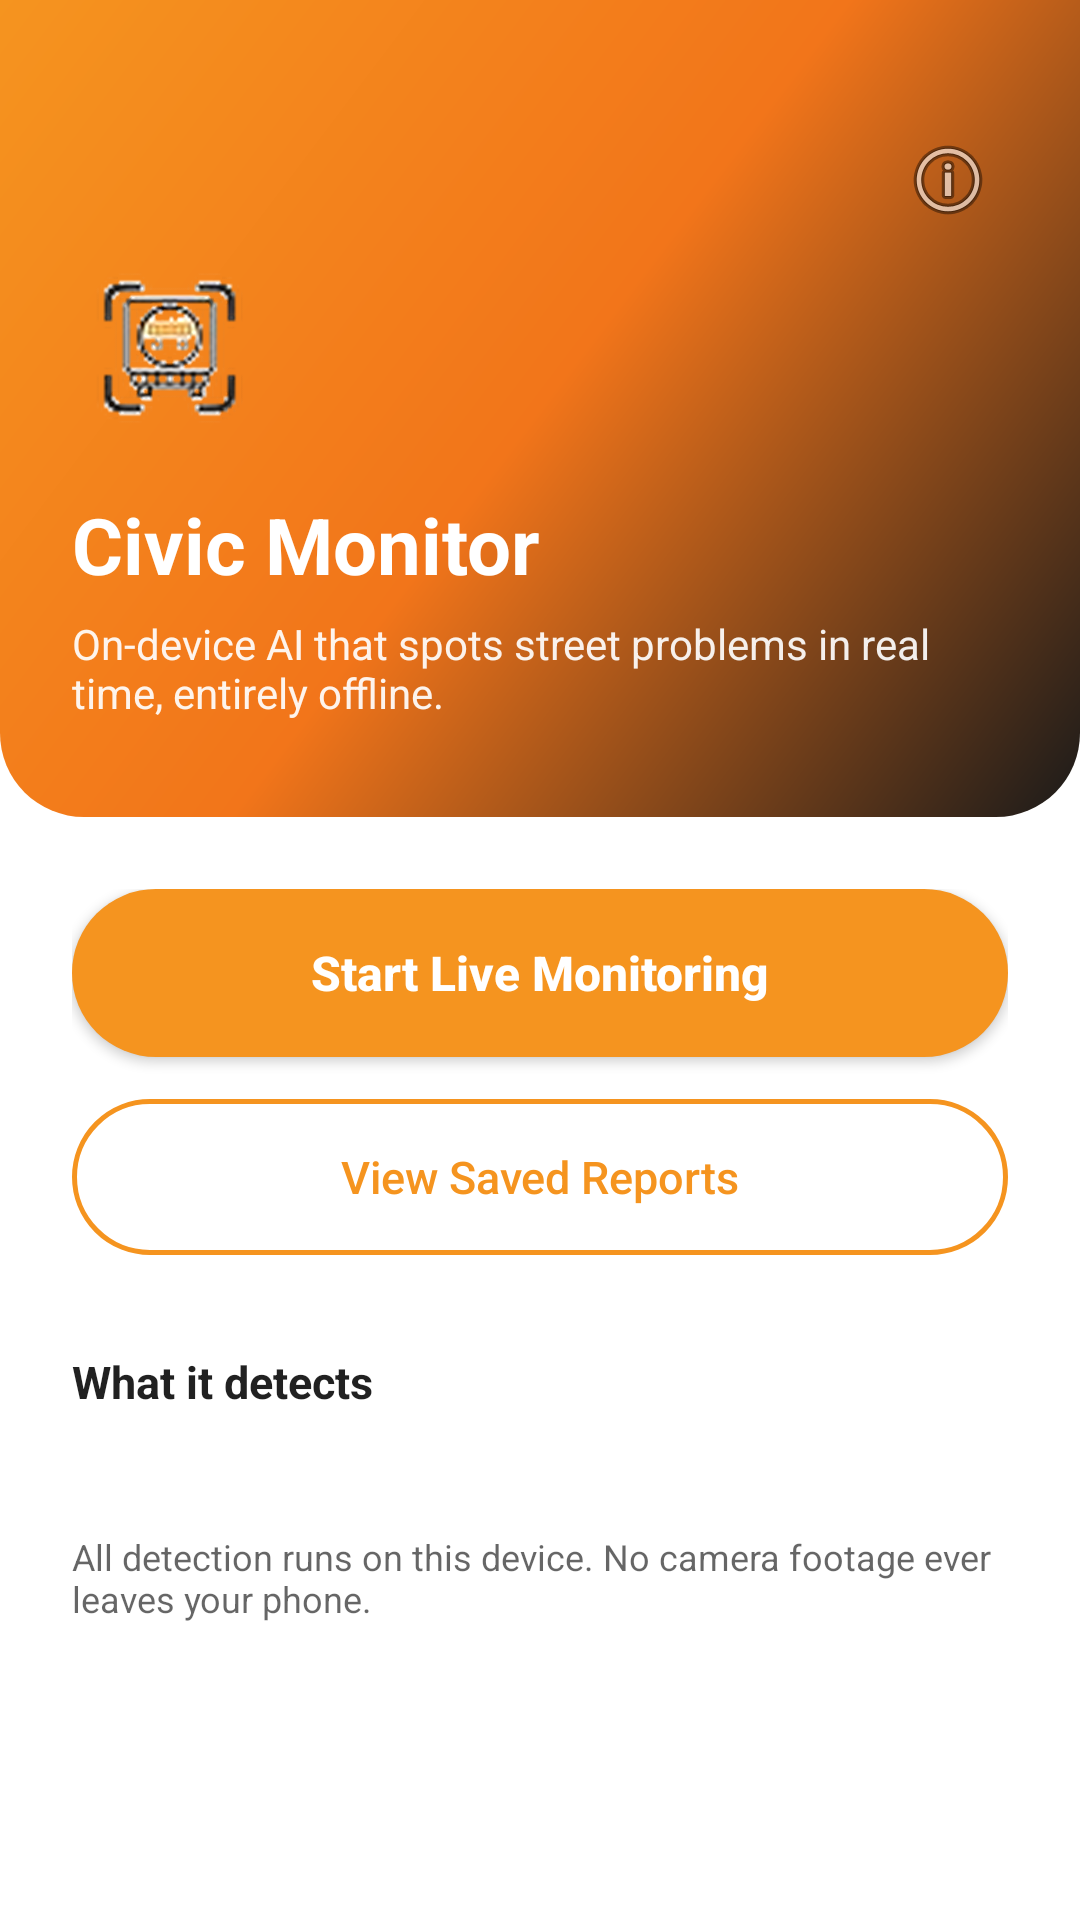

Named icons in this screenshot (1080×1920) and their centers, (x,y):
About: (948,180)
